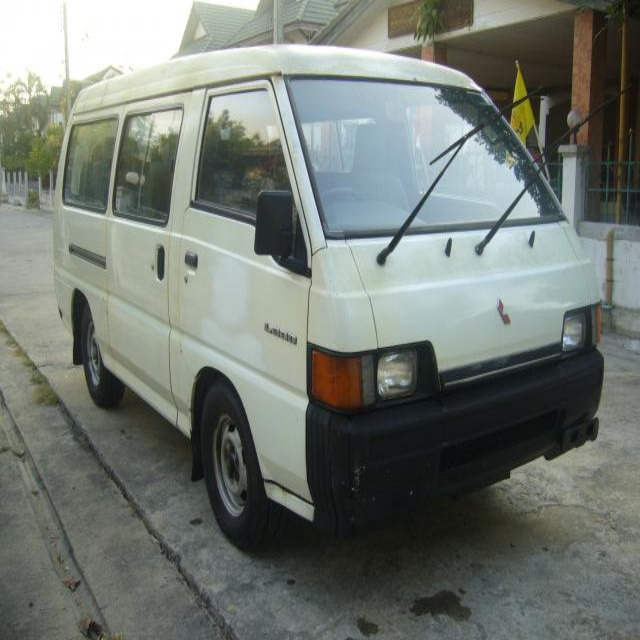Van: (51, 43, 606, 553)
